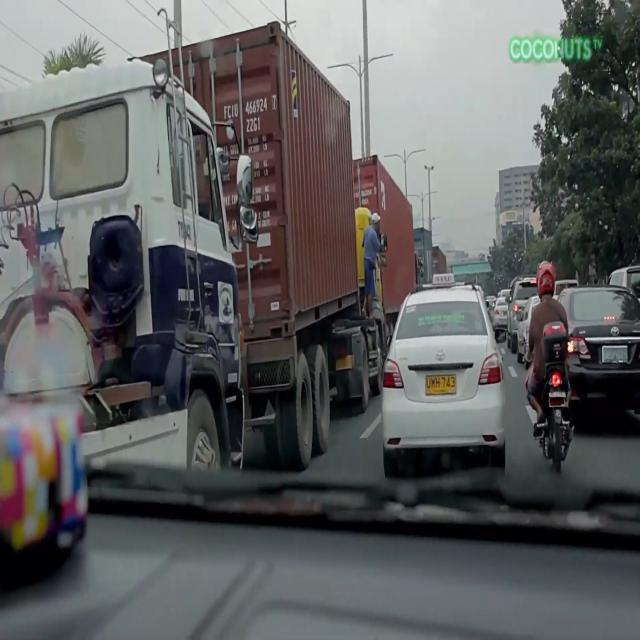motorcycle: (526, 260, 576, 480)
truck: (130, 22, 384, 476), (0, 51, 254, 496)
